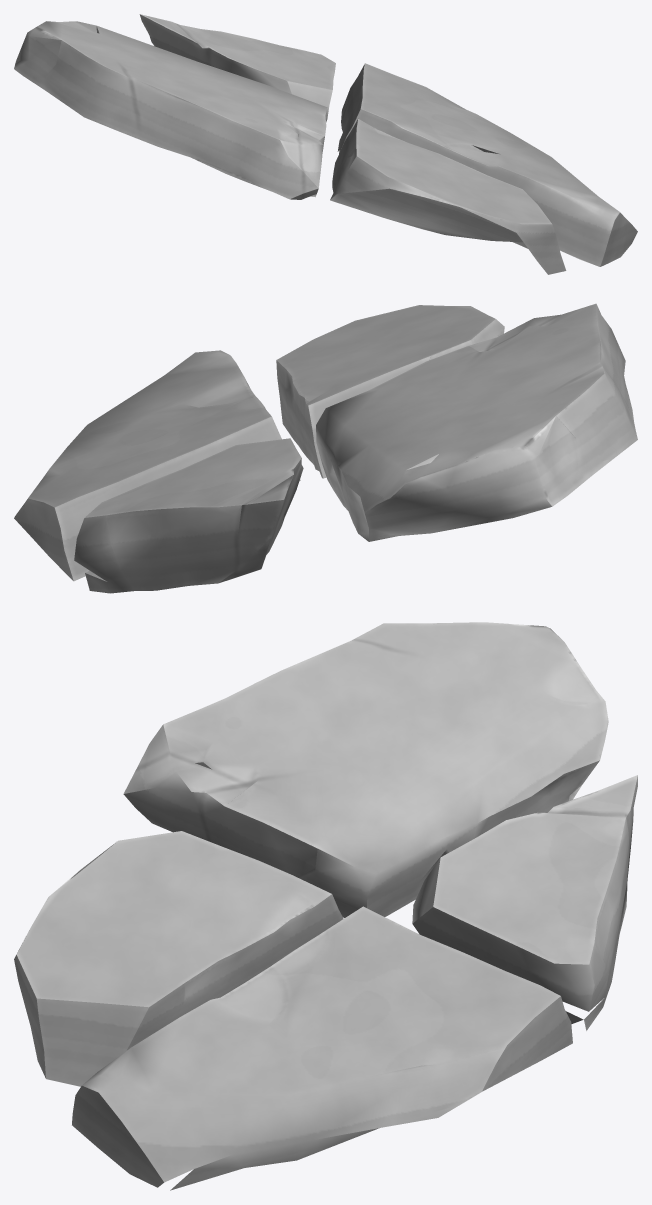
The model's file is sculpted_slab_01.glb.
3 views of the same model, one above another, from view 1: azimuth 30°, elevation 25°; view 2: azimuth 150°, elevation 25°; view 3: azimuth 270°, elevation 25° (orthographic). The views are drawn at different scales.
Parts seen in each view (by area): view 1: sculpted_slab_01; view 2: sculpted_slab_01; view 3: sculpted_slab_01.
Part boxes in pixels (x1=…): sculpted_slab_01: x1=14, y1=14, x2=637, y2=274; sculpted_slab_01: x1=14, y1=303, x2=637, y2=593; sculpted_slab_01: x1=14, y1=622, x2=637, y2=1190.
Bounding box in the file's own units: 4.33 × 1.92 × 3.79.
1 material, 1 textured.
